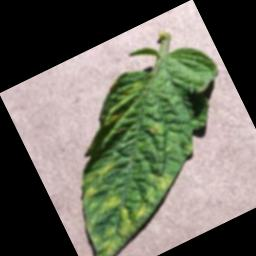Leaf_Mold: (82, 202, 145, 256), (93, 191, 125, 216), (149, 167, 176, 194), (131, 202, 152, 222), (97, 160, 120, 178), (80, 184, 100, 202)
